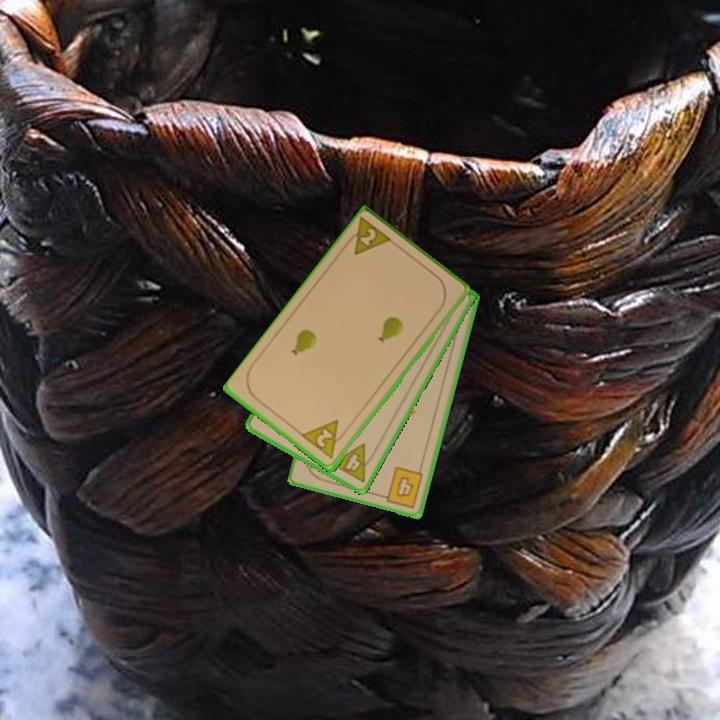2p: (340, 214, 396, 259), (299, 416, 350, 463)
4b: (376, 463, 426, 511)
4p: (327, 440, 380, 485)
